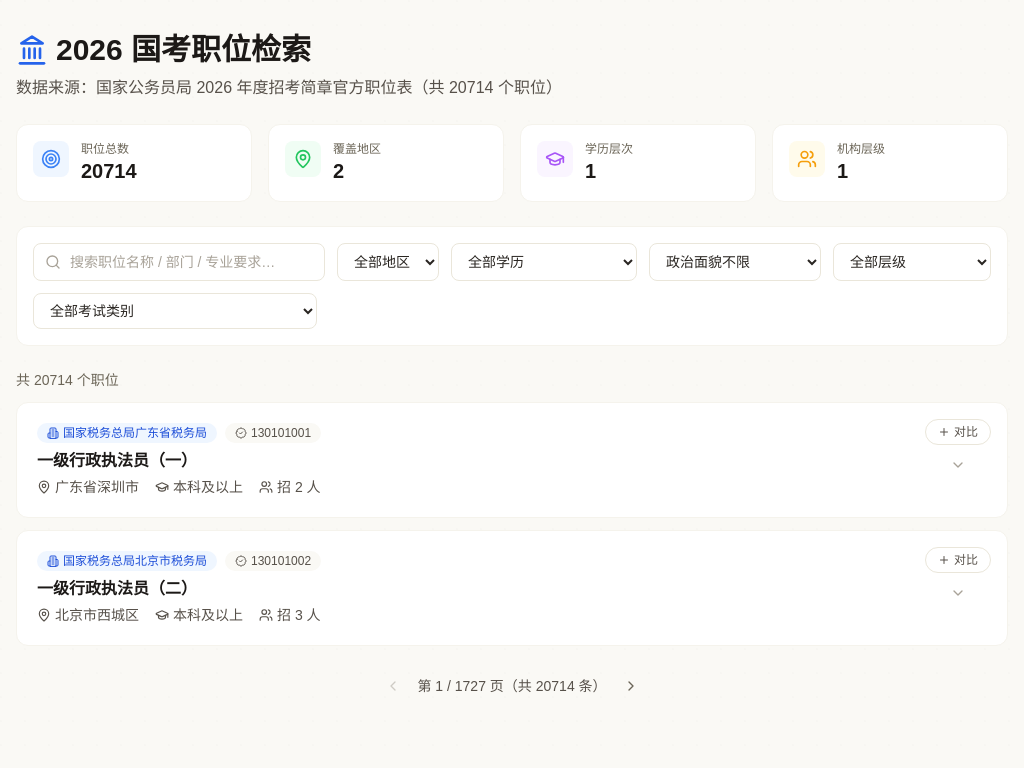
Test case: 国考职位检索页 › 勾选职位后显示底部对比栏
Expected: the text "已选" is not shown
Step 1. Click the 1st button "对比" → (958, 432), box [925,419,991,445]
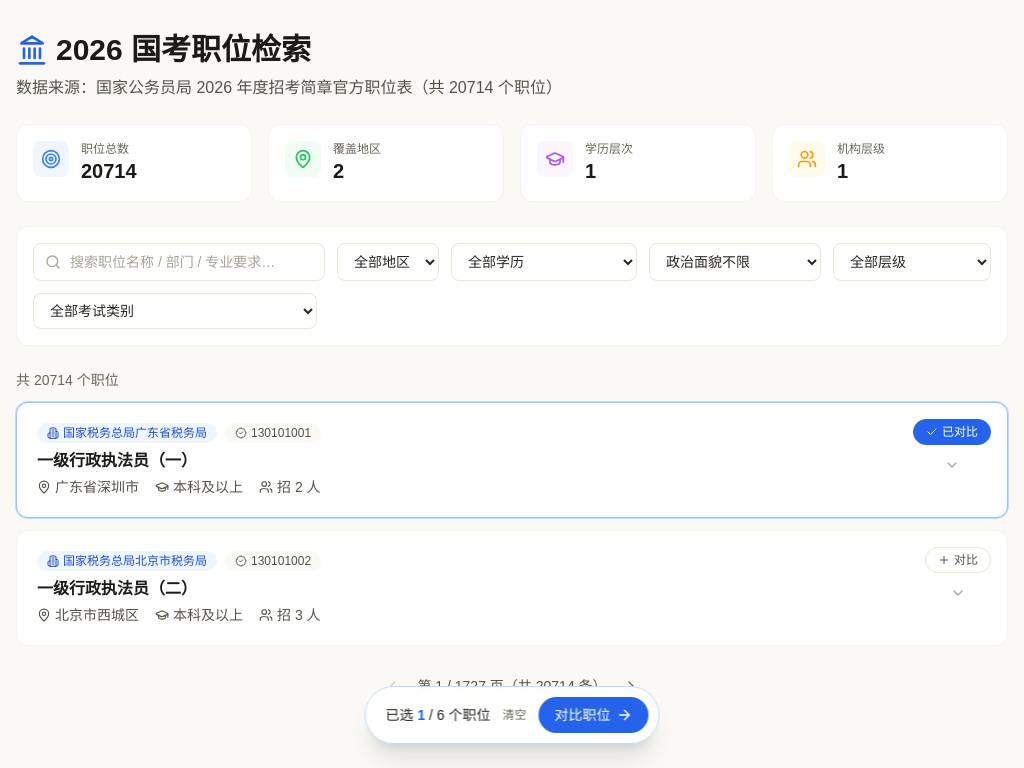
Expected: the text "已选 1 / 6 个职位" is shown, [386,705,490,725]
Expected: the text "对比职位" is shown, [538,697,648,733]
Expected: the text "清空" is shown, [502,707,526,723]
